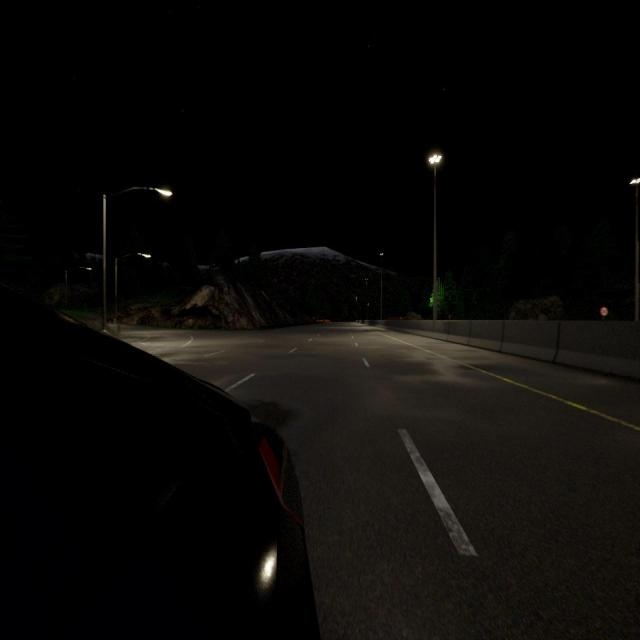Traffic_Signs: (599, 306, 608, 317), (313, 316, 315, 320)
Vehicle: (0, 287, 319, 640)
